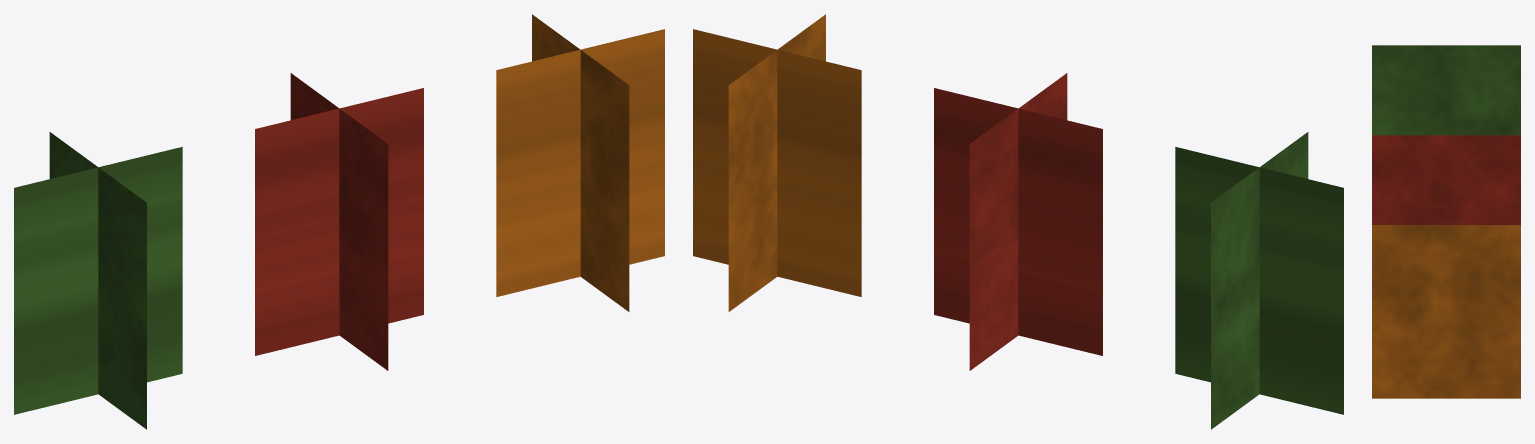
File: tree_maple_bb.glb
3 renders of one model, left to right at view 1: azimuth 30°, elevation 25°; view 2: azimuth 150°, elevation 25°; view 3: azimuth 270°, elevation 25°, orthographic. The views are drawn at different scales.
Visible parts, largest first — view 1: tree_maple_bb_v2, tree_maple_bb_v1, tree_maple_bb_v3; view 2: tree_maple_bb_v2, tree_maple_bb_v1, tree_maple_bb_v3; view 3: tree_maple_bb_v3, tree_maple_bb_v1, tree_maple_bb_v2.
Part boxes in pixels (left/top/right/bottom): tree_maple_bb_v2: left=255, top=73, right=423, bottom=370; tree_maple_bb_v1: left=14, top=132, right=182, bottom=429; tree_maple_bb_v3: left=496, top=14, right=664, bottom=311; tree_maple_bb_v2: left=934, top=73, right=1102, bottom=370; tree_maple_bb_v1: left=1175, top=132, right=1343, bottom=429; tree_maple_bb_v3: left=693, top=14, right=861, bottom=311; tree_maple_bb_v3: left=1372, top=225, right=1520, bottom=398; tree_maple_bb_v1: left=1372, top=45, right=1520, bottom=135; tree_maple_bb_v2: left=1372, top=135, right=1520, bottom=224.
Bounding box in the file's own units: 21.6 × 7.2 × 5.6.
1 material, 1 textured.
